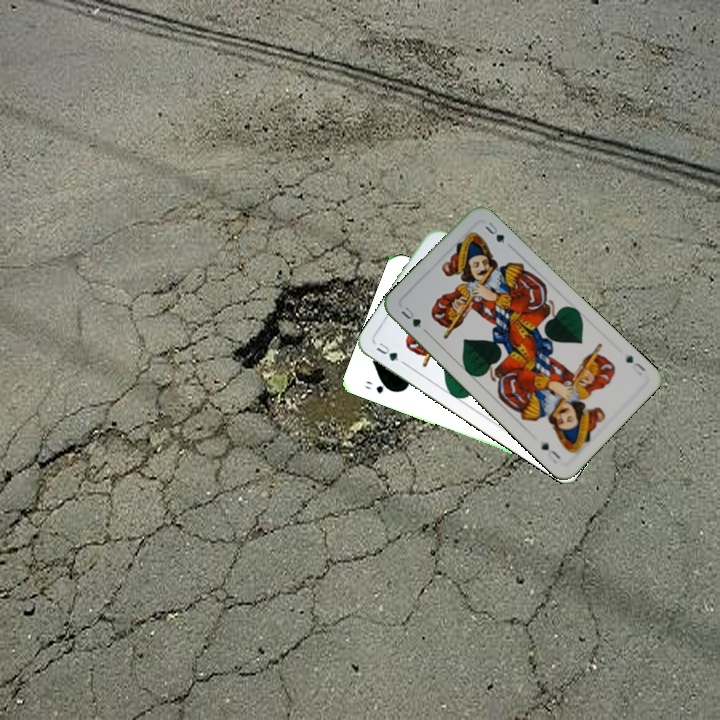GO: (361, 377, 397, 396)
GU: (372, 338, 407, 367), (397, 302, 424, 331), (622, 350, 648, 378)
